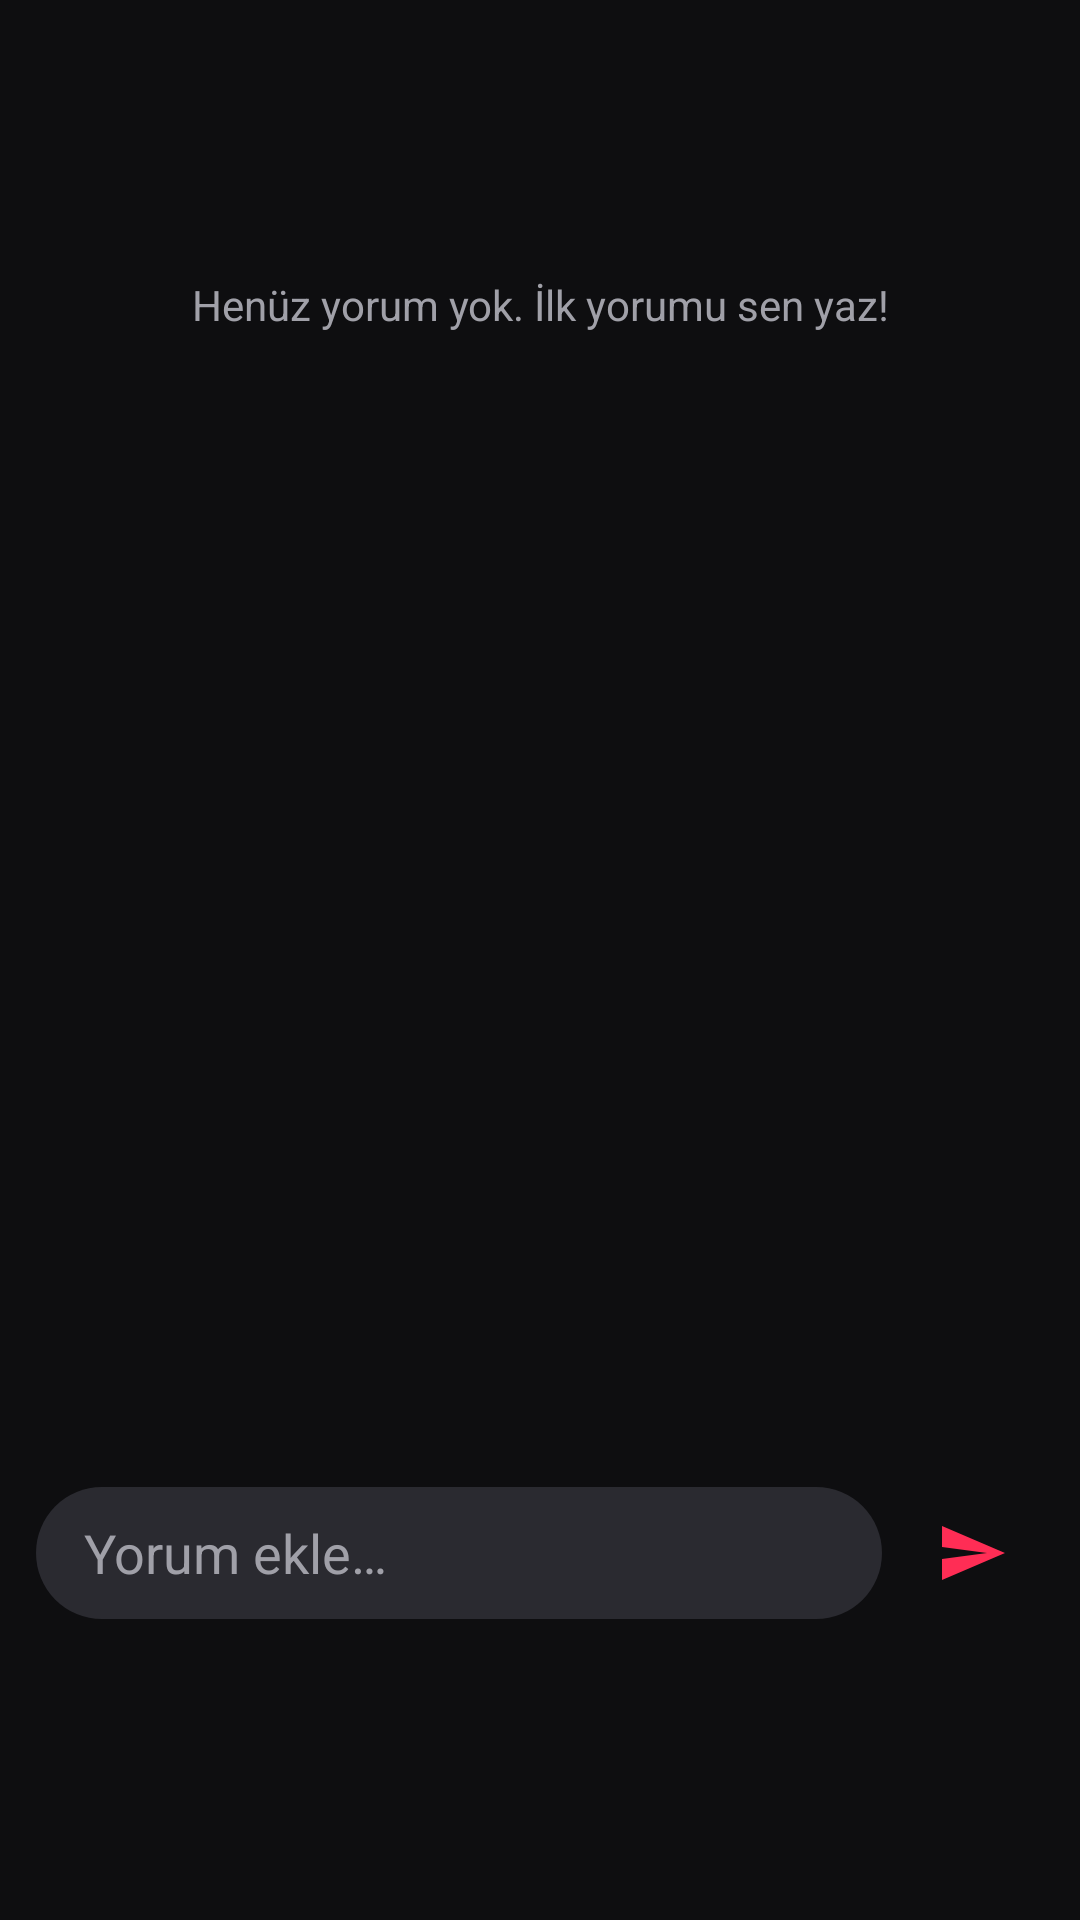

Locate icon controls on the screen. Image size 1080x1920, boxes as (x1, y1, x2, y2).
Gönder: (942, 1526, 1005, 1580)
